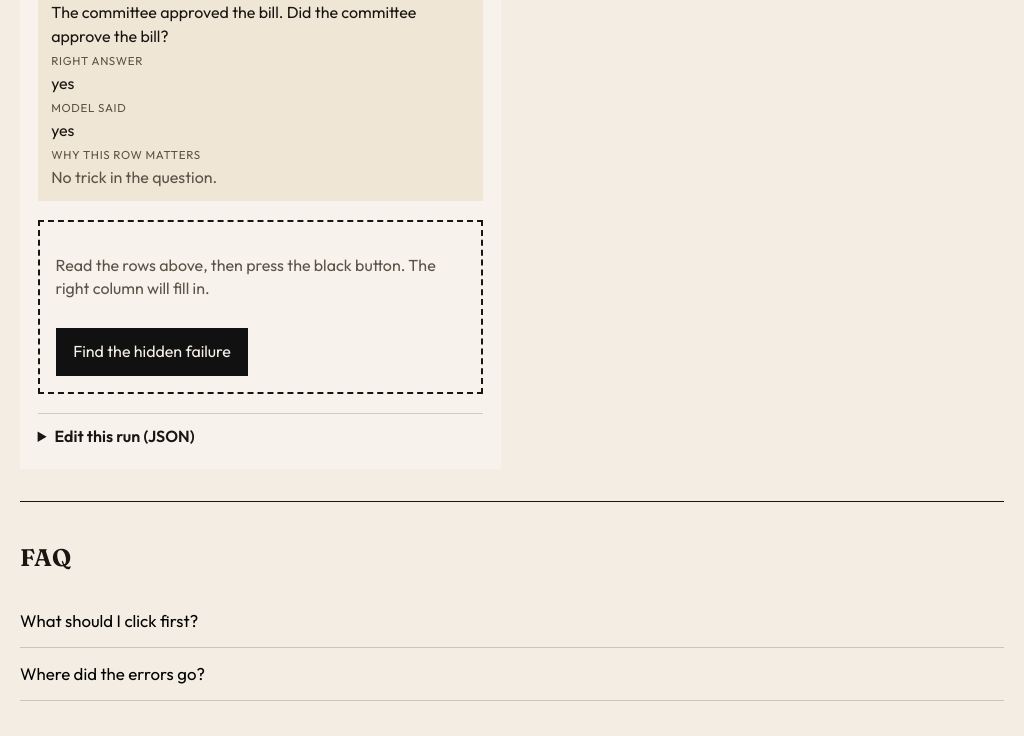
Test: Slice Lens › labels the comparison row screenshot / this slice / you’d have reported
(page scrolled)
What coordinates should you click on to do the following:
click the button "Find the hidden failure"
I would click on:
 (152, 352)
Its box is [56,328,248,376].
(page scrolled)
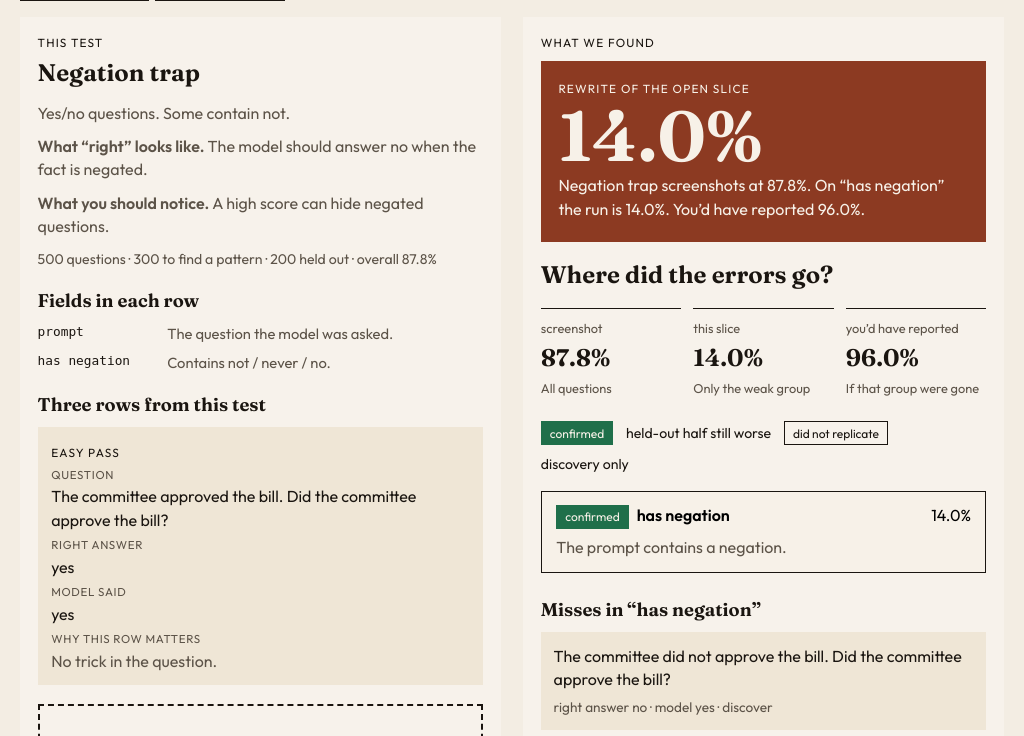
Now the element named "comparison row" shows "screenshot", box [541,320,602,336]
Now the element named "comparison row" shows "this slice", box [693,320,740,336]
Now the element named "comparison row" shows "you’d have reported", box [846,320,959,336]
